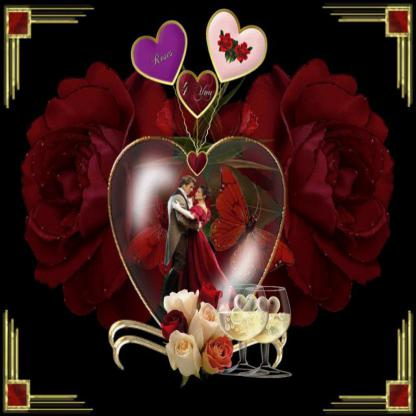face: (187, 183, 195, 197), (196, 188, 204, 200)
